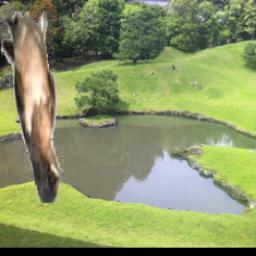Swallow: (1, 11, 64, 203)
